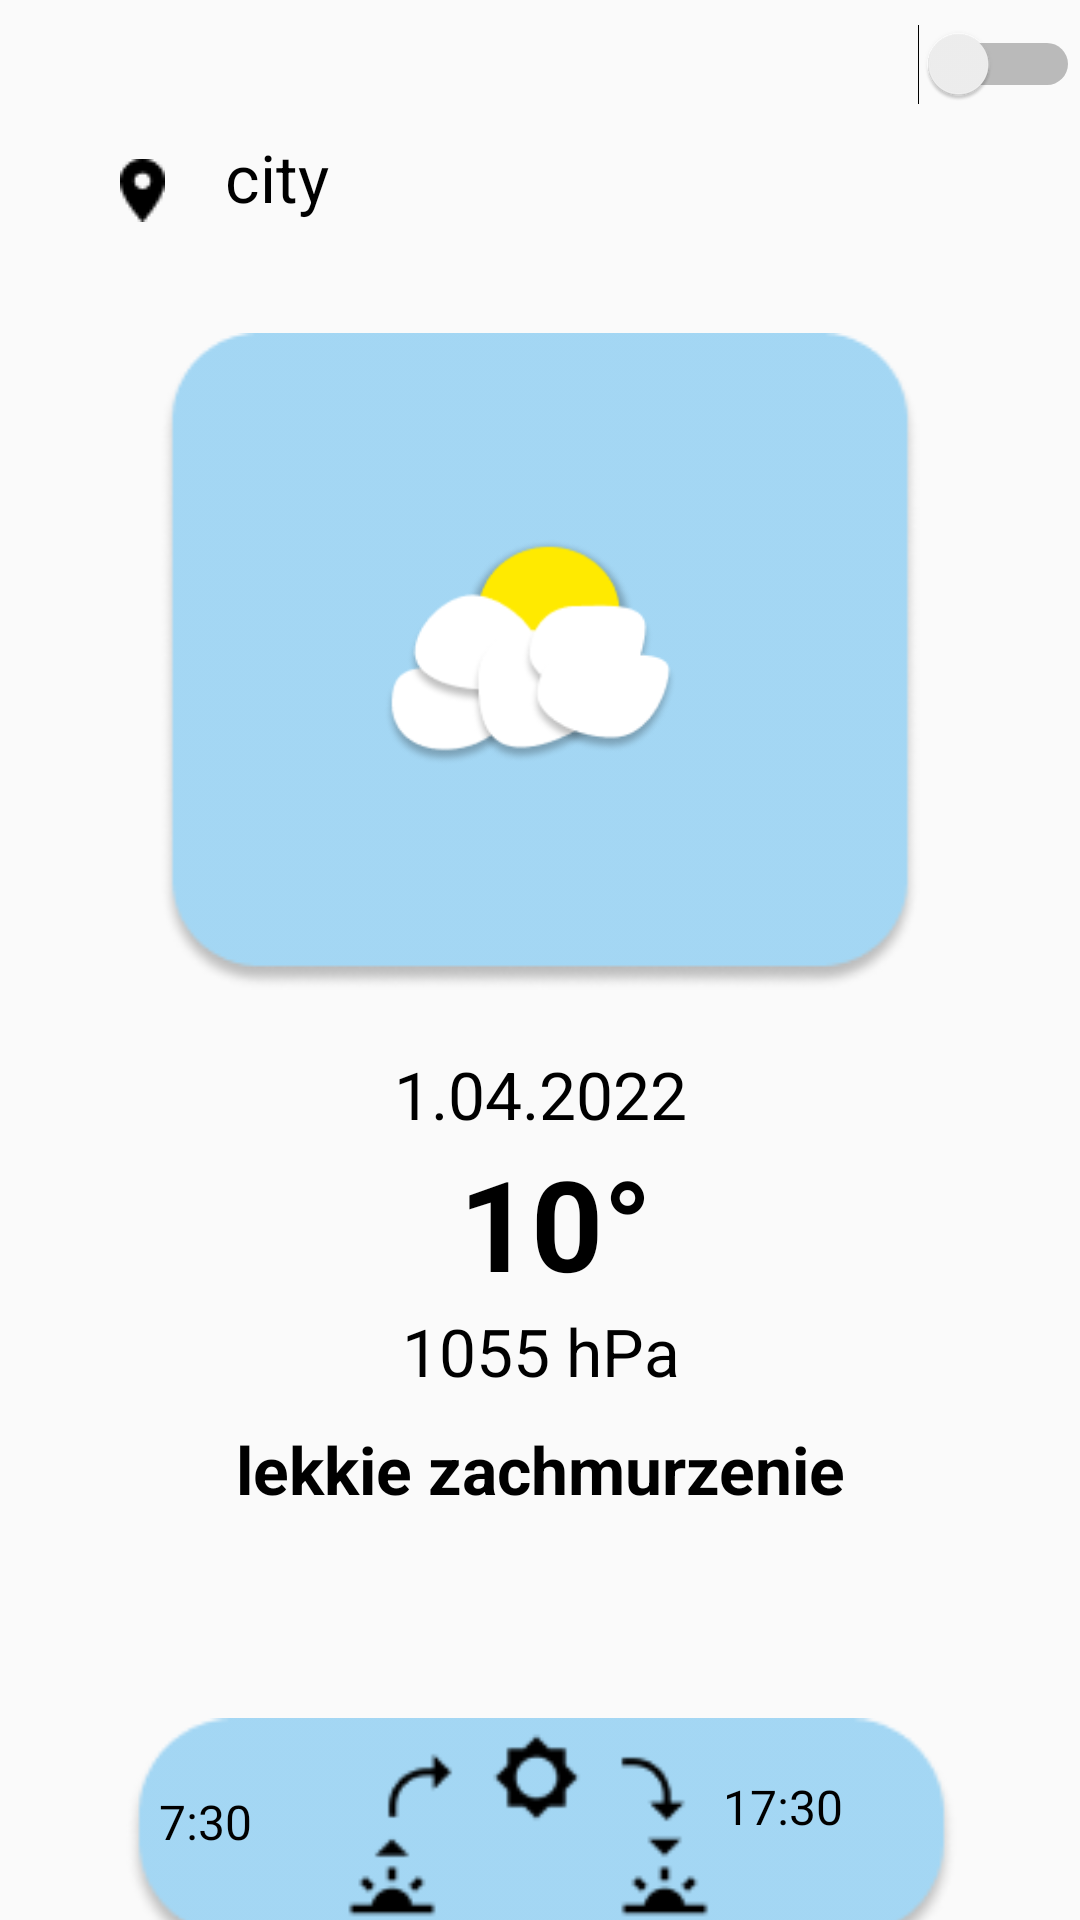

Point at icon controls on the screen. Image size 1080 x 1920, points as (x=x, y=y).
chmurkaslonce: (x=531, y=652)
localization: (x=142, y=190)
